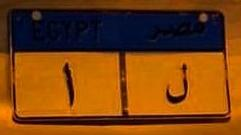1: (60, 57, 79, 108)
laam: (162, 56, 190, 107)
